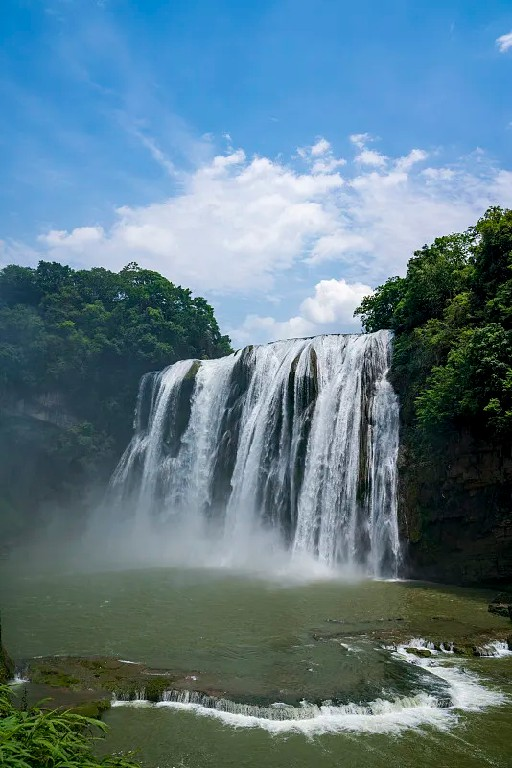Huangguoshu: (102, 329, 400, 584)
